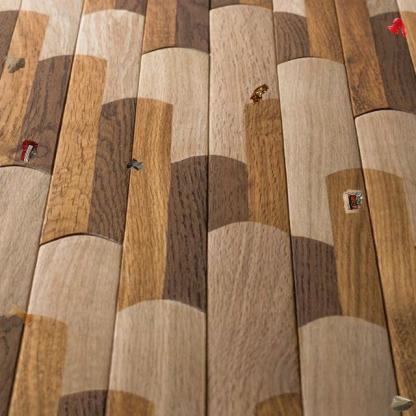dirty: (17, 137, 40, 166), (342, 188, 366, 215), (2, 54, 28, 76), (390, 394, 416, 412), (249, 83, 268, 107), (125, 156, 146, 174)
liquid: (2, 303, 34, 326), (386, 16, 408, 38)
